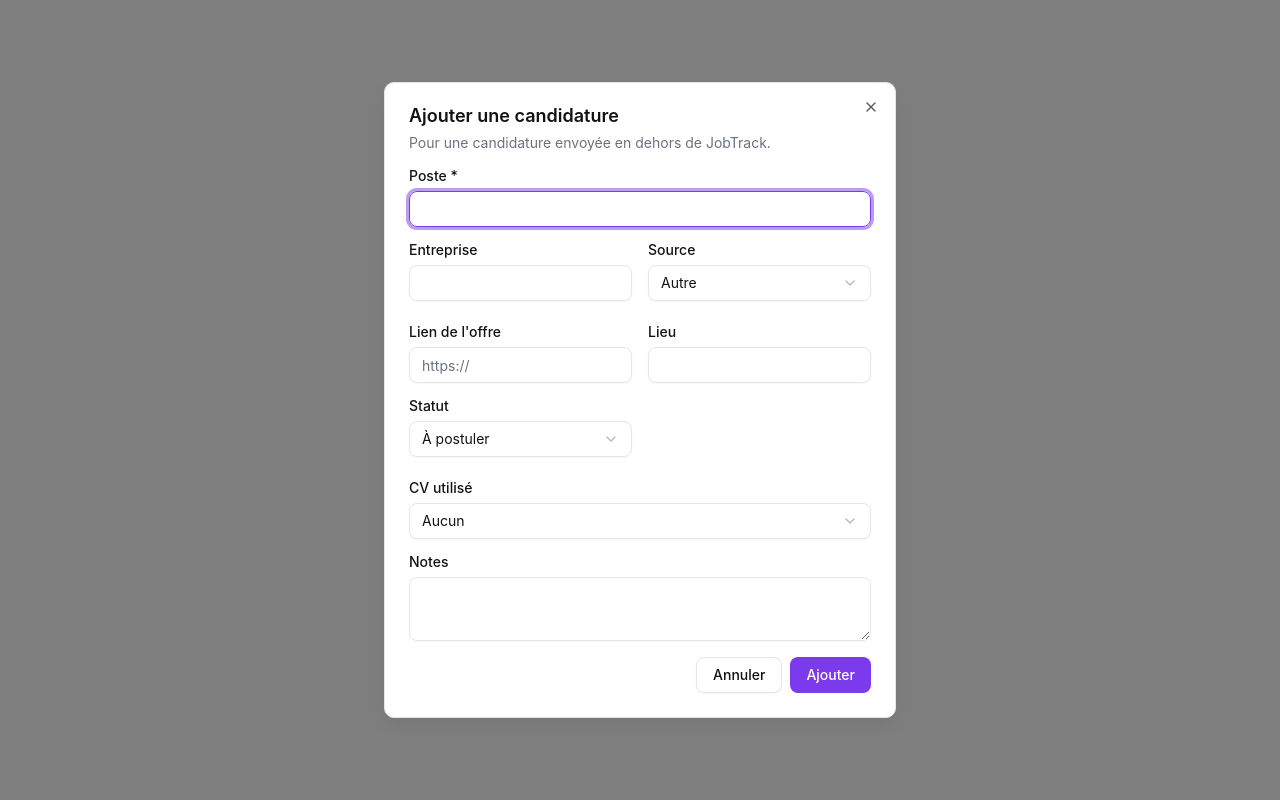
Test: ApplicationFormDialog en mode manuel › refuse de soumettre sans poste
Click the button "Ajouter": point(831, 675) [790,657,871,693]
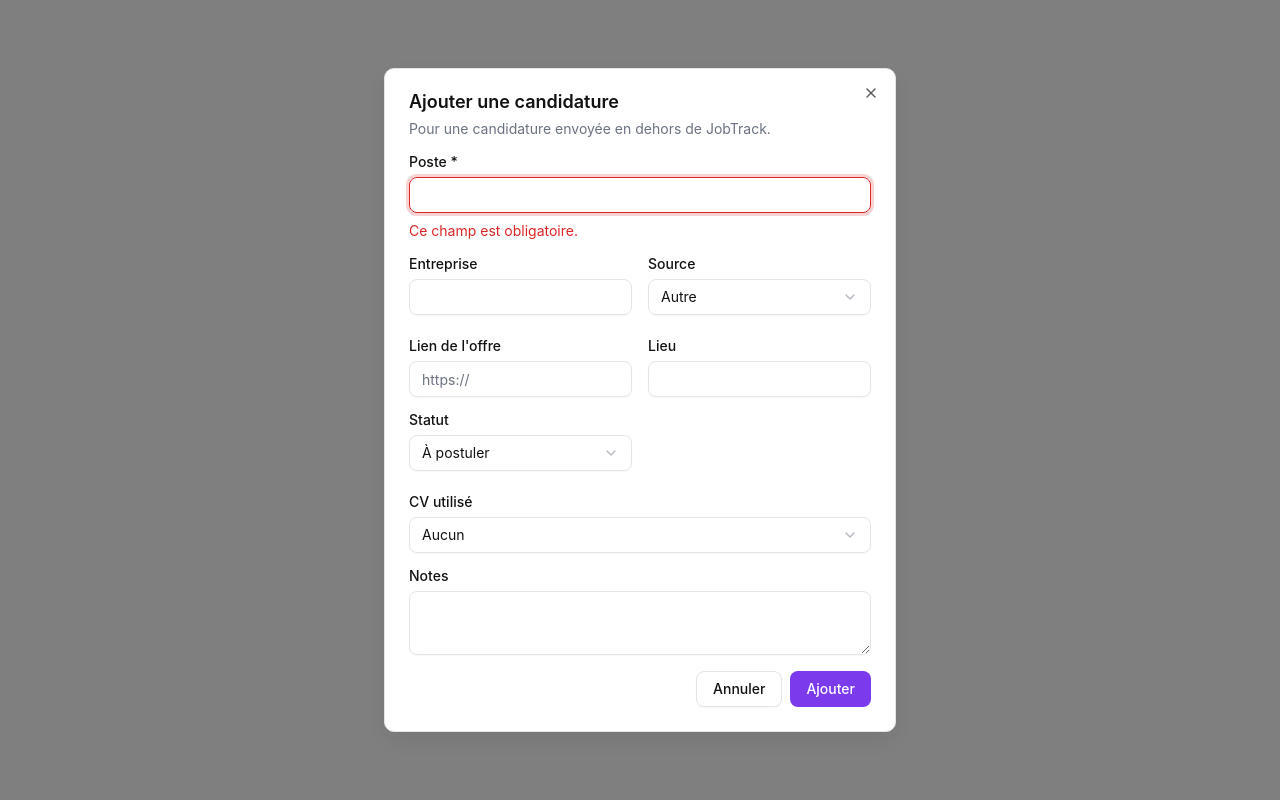
Expected: the message reads "Ce champ est obligatoire.", [409,222,578,239]
